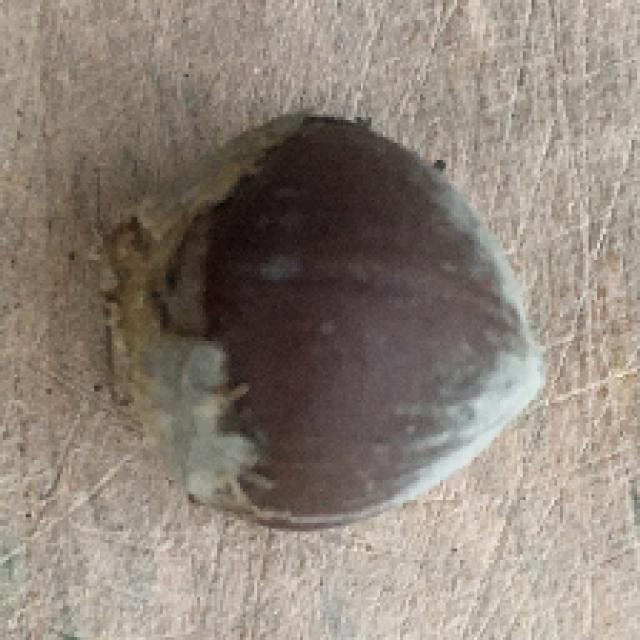DamagedHazelnut: (91, 114, 547, 531)
